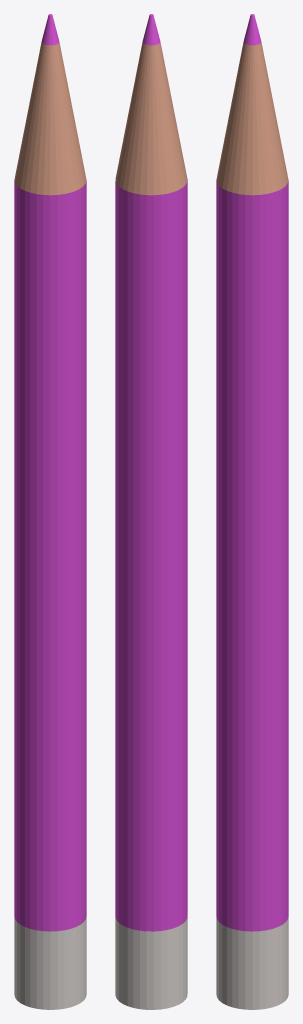
The model's file is pencil3.glb.
3 renders of one model, left to right at view 1: azimuth 90°, elevation 25°; view 2: azimuth 150°, elevation 25°; view 3: azimuth 270°, elevation 25°, orthographic.
Parts seen in each view (by area): view 1: Cylinder; view 2: Cylinder; view 3: Cylinder.
Part boxes in pixels (x1=…): Cylinder: x1=14, y1=14, x2=86, y2=1009; Cylinder: x1=115, y1=14, x2=187, y2=1009; Cylinder: x1=216, y1=14, x2=288, y2=1009.
Bounding box in the file's own units: 0.1777 × 2.66 × 0.1777.
